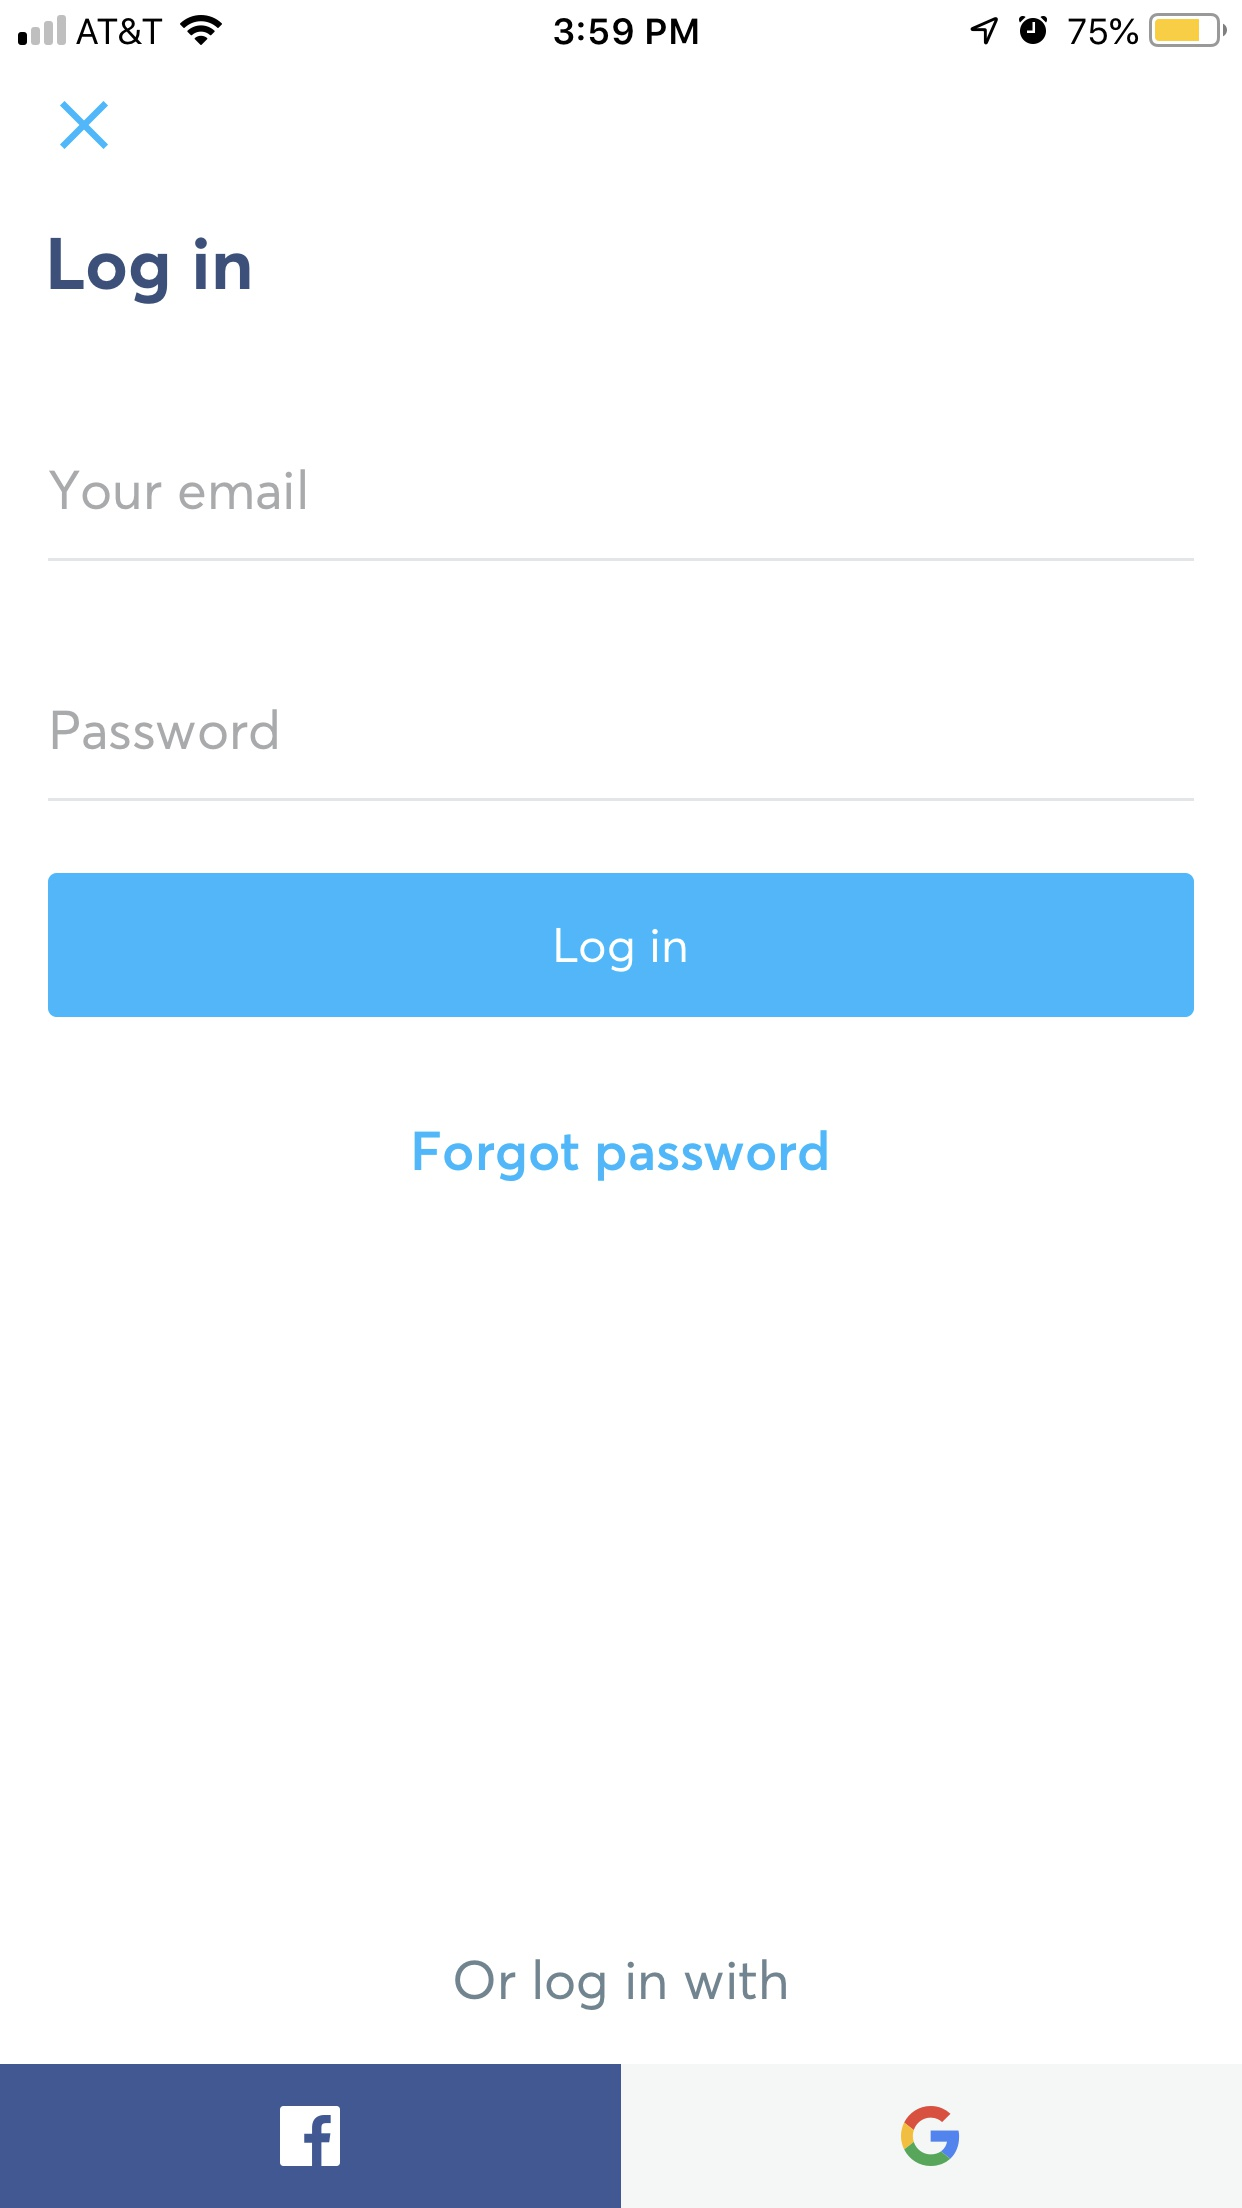EditText: (49, 469, 1195, 563), (49, 710, 1195, 802)
Icon: (61, 102, 109, 150)
Text: (409, 1127, 828, 1184), (455, 1958, 787, 2011), (50, 237, 252, 306), (52, 470, 306, 513), (52, 710, 279, 751)
TextButton: (49, 873, 1195, 1018), (622, 2064, 1242, 2208), (2, 2064, 622, 2208)
UpperTaskBar: (2, 2, 1242, 49)
